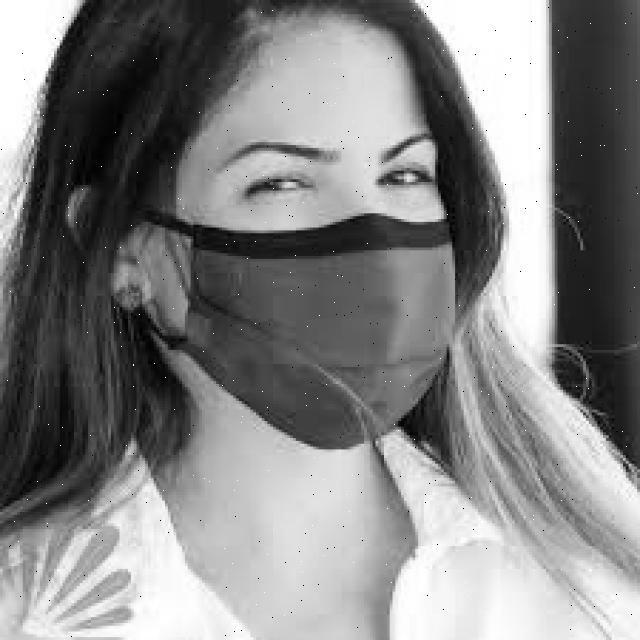fake: (182, 209, 460, 457)
real: (176, 31, 453, 461)
